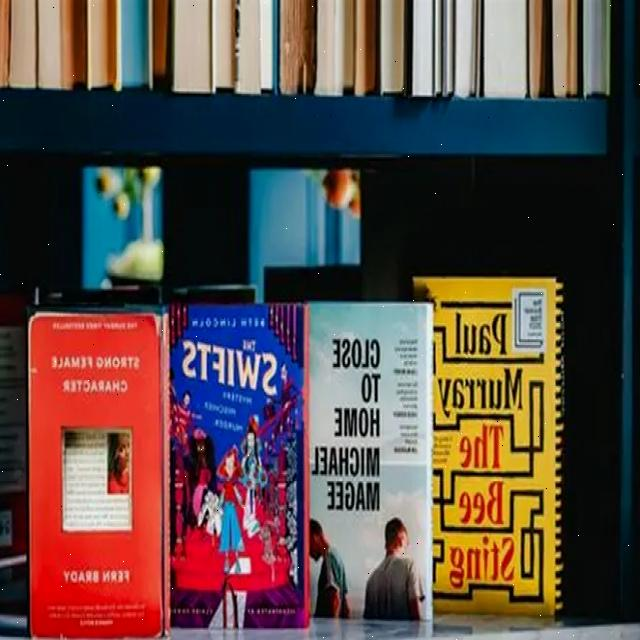book: (27, 315, 164, 636), (169, 303, 305, 624), (433, 280, 560, 612), (310, 304, 430, 616)
